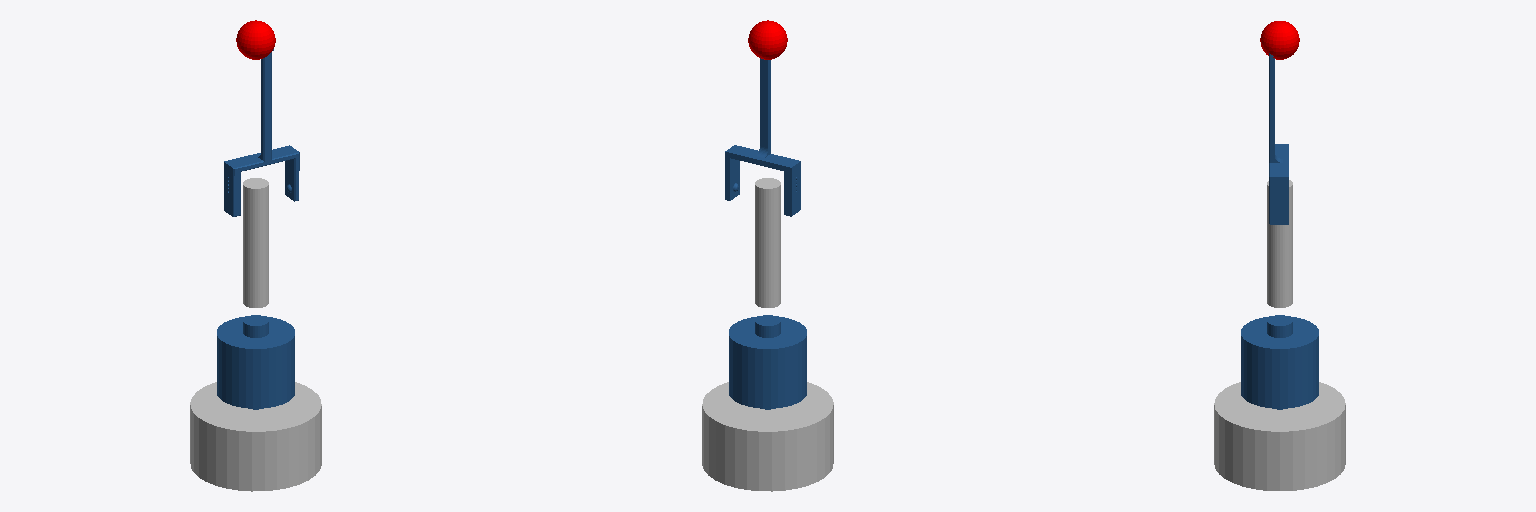
URDF robot description (2R_Arm):
<?xml version="1.0" ?>

<robot xmlns:xacro="http://www.ros.org/wiki/xacro" name="2R_Arm">
  <!-- Colors -->
  <material name="White">
    <color rgba="0.8 0.8 0.8 0.5"/>
  </material>
  <material name="Orange">
    <color rgba="1.0 0.5 0.0 1.0"/>
  </material>
  <material name="Blue">
  <color rgba="0.2 0.4 0.6 1.0"/>      
  </material>
  <material name="Red">
    <color rgba="1 0 0 1.0"/>      
  </material>

  <!-- World frame -->
  <link name="world"/>

  <joint name="world_to_base" type="fixed">
    <parent link="world"/>
    <child link="base_link"/>
    <origin xyz="0 0 0" rpy="0 0 0"/>
  </joint>


  <!--Base-->
   <link name="base_link">
    <!-- <inertial>
      <origin rpy="0 0 0" xyz="0 0 0"/>
      <mass value="10"/>
      <inertia ixx="0" ixy="0" ixz="0" iyy="0" iyz="0" izz="0"/>
    </inertial> -->
     <visual>
      <origin rpy="0 0 0" xyz="0 0 0"/>
      <geometry>
        <cylinder radius="0.1" length="0.1"/>
      </geometry>
      <material name="White"/>
    </visual>
  </link>

<!-- Joint connecting base to servo 1 spinner -->
  <joint name="Joint_1" type="revolute">
    <limit lower="-3.14" upper="3.14" effort="1000" velocity="0.5"/>
    <parent link="base_link"/>
    <child link="Link_0"/>
    <origin rpy="0 0 0" xyz="0 0 0.12"/>
    <axis xyz="0 0 1"/>
  </joint>

   <!-- Link 1 -->
  <link name="Link_0">
    <!-- <inertial>
      <origin rpy="0 0 0" xyz="0 0 0"/>
      <mass value="1"/>
      <inertia ixx="0.00" ixy="0" ixz="0" iyy="0.00" iyz="0" izz="0.00"/>
    </inertial> -->
    <visual>
      <origin rpy="0 0 0" xyz="0 0 0"/>
      <geometry>
        <cylinder radius="0.06" length="0.1"/>
      </geometry>
      <material name="Blue"/>
    </visual>
    <visual>
      <origin rpy="0 0 0" xyz="0 0 0"/>
      <geometry>
        <cylinder radius="0.02" length="0.14"/>
      </geometry>
      <material name="Blue"/>
    </visual>
  </link>

    <!-- Joint 2 -->
  <joint name="Joint_2" type="revolute">
    <limit lower="-3.14" upper="3.14" effort="1000" velocity="0.5"/>
    <parent link="Link_0"/>
    <child link="Link_1"/>
    <origin rpy="0 0 0" xyz="0 0 0.1"/>
    <axis xyz="1 0 0"/>
  </joint>

  <link name="Link_1">
    <!-- <inertial>
      <origin rpy="0 0 0" xyz="0 0 0.1"/>
      <mass value="10"/>
      <inertia ixx="0.0" ixy="0" ixz="0" iyy="0.0" iyz="0" izz="0.0"/>
    </inertial> -->
    <visual>
      <origin rpy="0 0 0" xyz="0 0 0.1"/>
      <geometry>
        <cylinder radius="0.02" length="0.2"/>
      </geometry>
      <material name="White"/>
    </visual>
  </link>
      <!-- Joint 3 -->
  <joint name="Joint_3" type="revolute">
    <limit lower="-3.14" upper="3.14" effort="1000" velocity="0.5"/>
    <parent link="Link_1"/>
    <child link="Link_2"/>
    <origin rpy="0 0 0" xyz="0 0 0.22"/>
    <axis xyz="1 0 0"/>
  </joint>
   <!-- Upper Arm -->
  <link name="Link_2">
    <!-- <inertial>
      <origin rpy="0 0 0" xyz="0 0 0.1"/>
      <mass value="10"/>
      <inertia ixx="0.0" ixy="0" ixz="0" iyy="0.0" iyz="0" izz="0.0"/>
    </inertial> -->
    <visual>
      <origin rpy="-1.57 0 0" xyz="0 -0.17 -0.13"/>
      <geometry>
        <!-- <cylinder radius="0.02" length="0.2"/> -->
        <mesh filename="package://arm1_description/urdf/Link3.stl" scale="0.003 0.003 0.003"/>
      </geometry>
      <material name="Blue"/>
    </visual>
  </link>

   <!-- Joint End-Effector -->
  <joint name="Joint_EE" type="fixed">
    <limit lower="-3.14" upper="3.14" effort="1000" velocity="0.5"/>
    <parent link="Link_2"/>
    <child link="Link_EE"/>
    <origin rpy="0 0 0" xyz="0 0 0.22"/>
    <axis xyz="1 0 0"/>
  </joint>
    <!-- End-Effector -->
  <link name="Link_EE">
    <!-- <inertial>
      <origin rpy="0 0 0" xyz="0 0 0"/>
      <mass value="0"/>
      <inertia ixx="0" ixy="0" ixz="0" iyy="0" iyz="0" izz="0"/>
    </inertial> -->
    <visual>
      <origin rpy="0 0 0" xyz="0 0 0"/>
      <geometry>
        <sphere radius="0.03"/>
      </geometry>
      <material name="Red"/>
    </visual>
  </link>

</robot>

--- Facts derived from the render (not from the file) ---
3 views of the same robot in one strip: view 1: azimuth 30°, elevation 25°; view 2: azimuth 150°, elevation 25°; view 3: azimuth 270°, elevation 25° (orthographic).
Robot: 2R_Arm — 6 links, 5 joints (3 revolute, 2 fixed); root link world; default pose: every joint at zero.
Visible links, largest first — view 1: base_link, Link_0, Link_2, Link_1, Link_EE; view 2: base_link, Link_0, Link_2, Link_1, Link_EE; view 3: base_link, Link_0, Link_1, Link_2, Link_EE.
Link boxes in pixels (x1,y1,x2,y2): base_link: (190, 382, 321, 491); Link_0: (217, 315, 294, 409); Link_2: (224, 49, 299, 216); Link_1: (243, 178, 268, 307); Link_EE: (236, 20, 275, 59); base_link: (702, 382, 833, 491); Link_0: (729, 315, 806, 409); Link_2: (725, 58, 800, 216); Link_1: (755, 178, 780, 307); Link_EE: (748, 20, 787, 59); base_link: (1214, 382, 1345, 490); Link_0: (1241, 315, 1318, 409); Link_1: (1267, 180, 1292, 307); Link_2: (1269, 53, 1288, 224); Link_EE: (1260, 21, 1299, 59).
Size in the robot's own frame: 0.2 by 0.2 by 0.74 metres.
1 mesh visuals loaded from 1 distinct referenced files (1 binary STL).